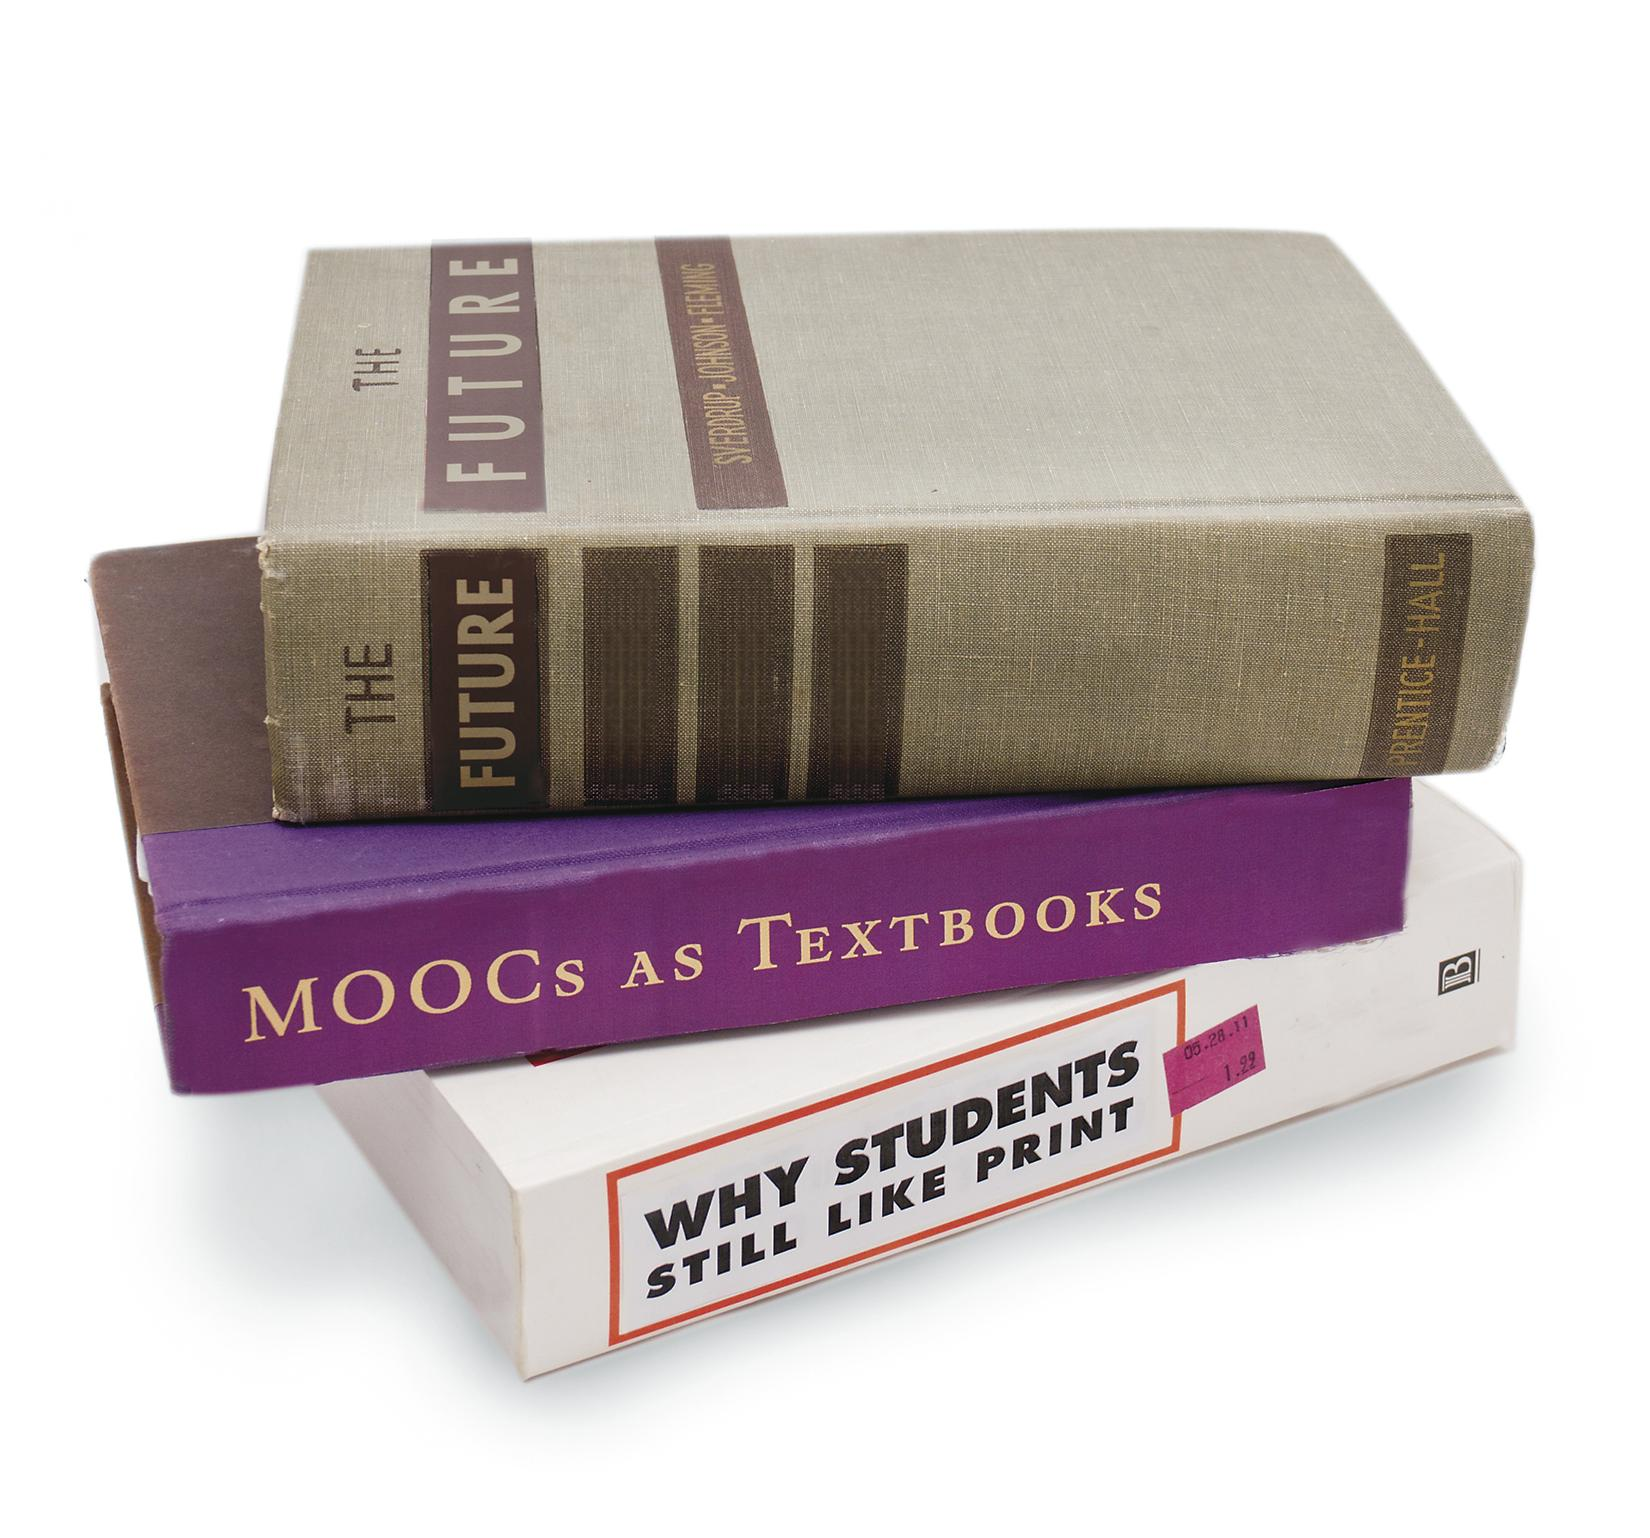book: (79, 513, 1419, 1103), (259, 231, 1539, 840), (308, 766, 1532, 1388)
